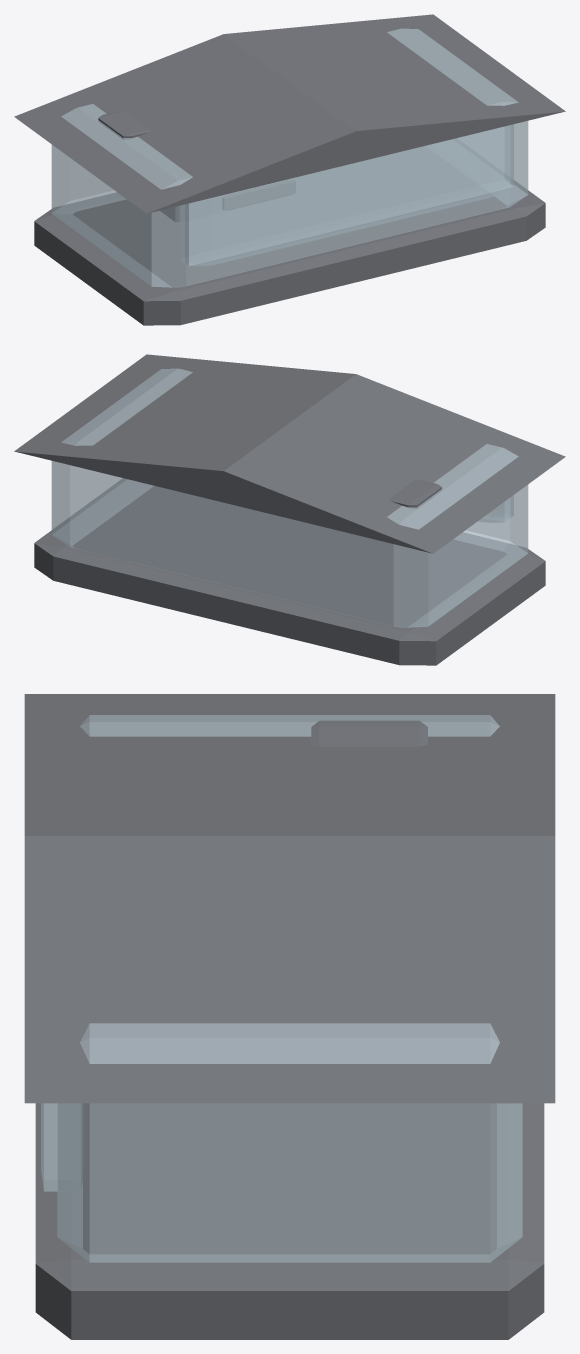
File: b12_suspended_glass_entry_canopy.glb
The picture shows the model from 3 angles, top to bottom: view 1: azimuth 30°, elevation 25°; view 2: azimuth 150°, elevation 25°; view 3: azimuth 270°, elevation 25°; orthographic projection. The views are drawn at different scales.
Parts seen in each view (by area): view 1: b12_suspended_glass_entry_canopy; view 2: b12_suspended_glass_entry_canopy; view 3: b12_suspended_glass_entry_canopy.
Boxes of the visible parts, box(x1,y1,x2,y2) form: b12_suspended_glass_entry_canopy: box(14, 14, 565, 325); b12_suspended_glass_entry_canopy: box(14, 354, 565, 665); b12_suspended_glass_entry_canopy: box(24, 694, 555, 1339).
Size of the model in its own units: 2.76 by 0.98 by 1.51.
